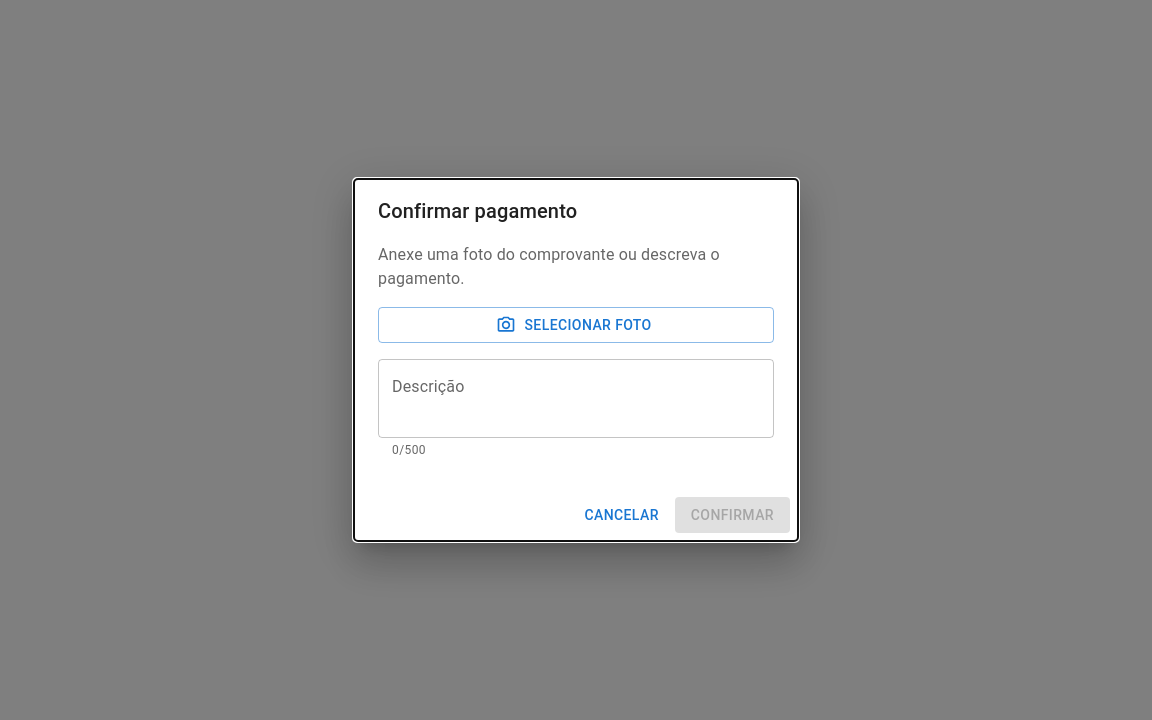
Scenario: PaymentProofDialog › enables Confirmar with only a note when the photo is optional
Step 1. Type "Pago em dinheiro" into the text box labelled "Descrição" → (576, 398), box [392,376,760,422]
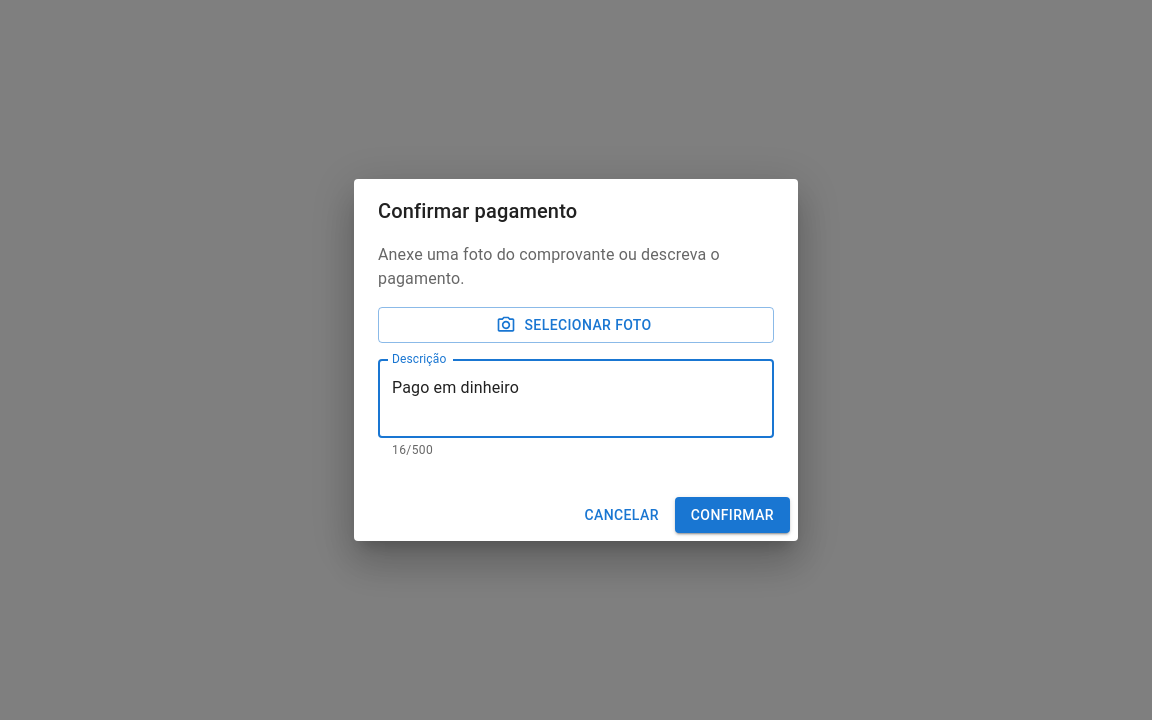
Check: the button "Confirmar" is enabled, box [675,497,790,534]
